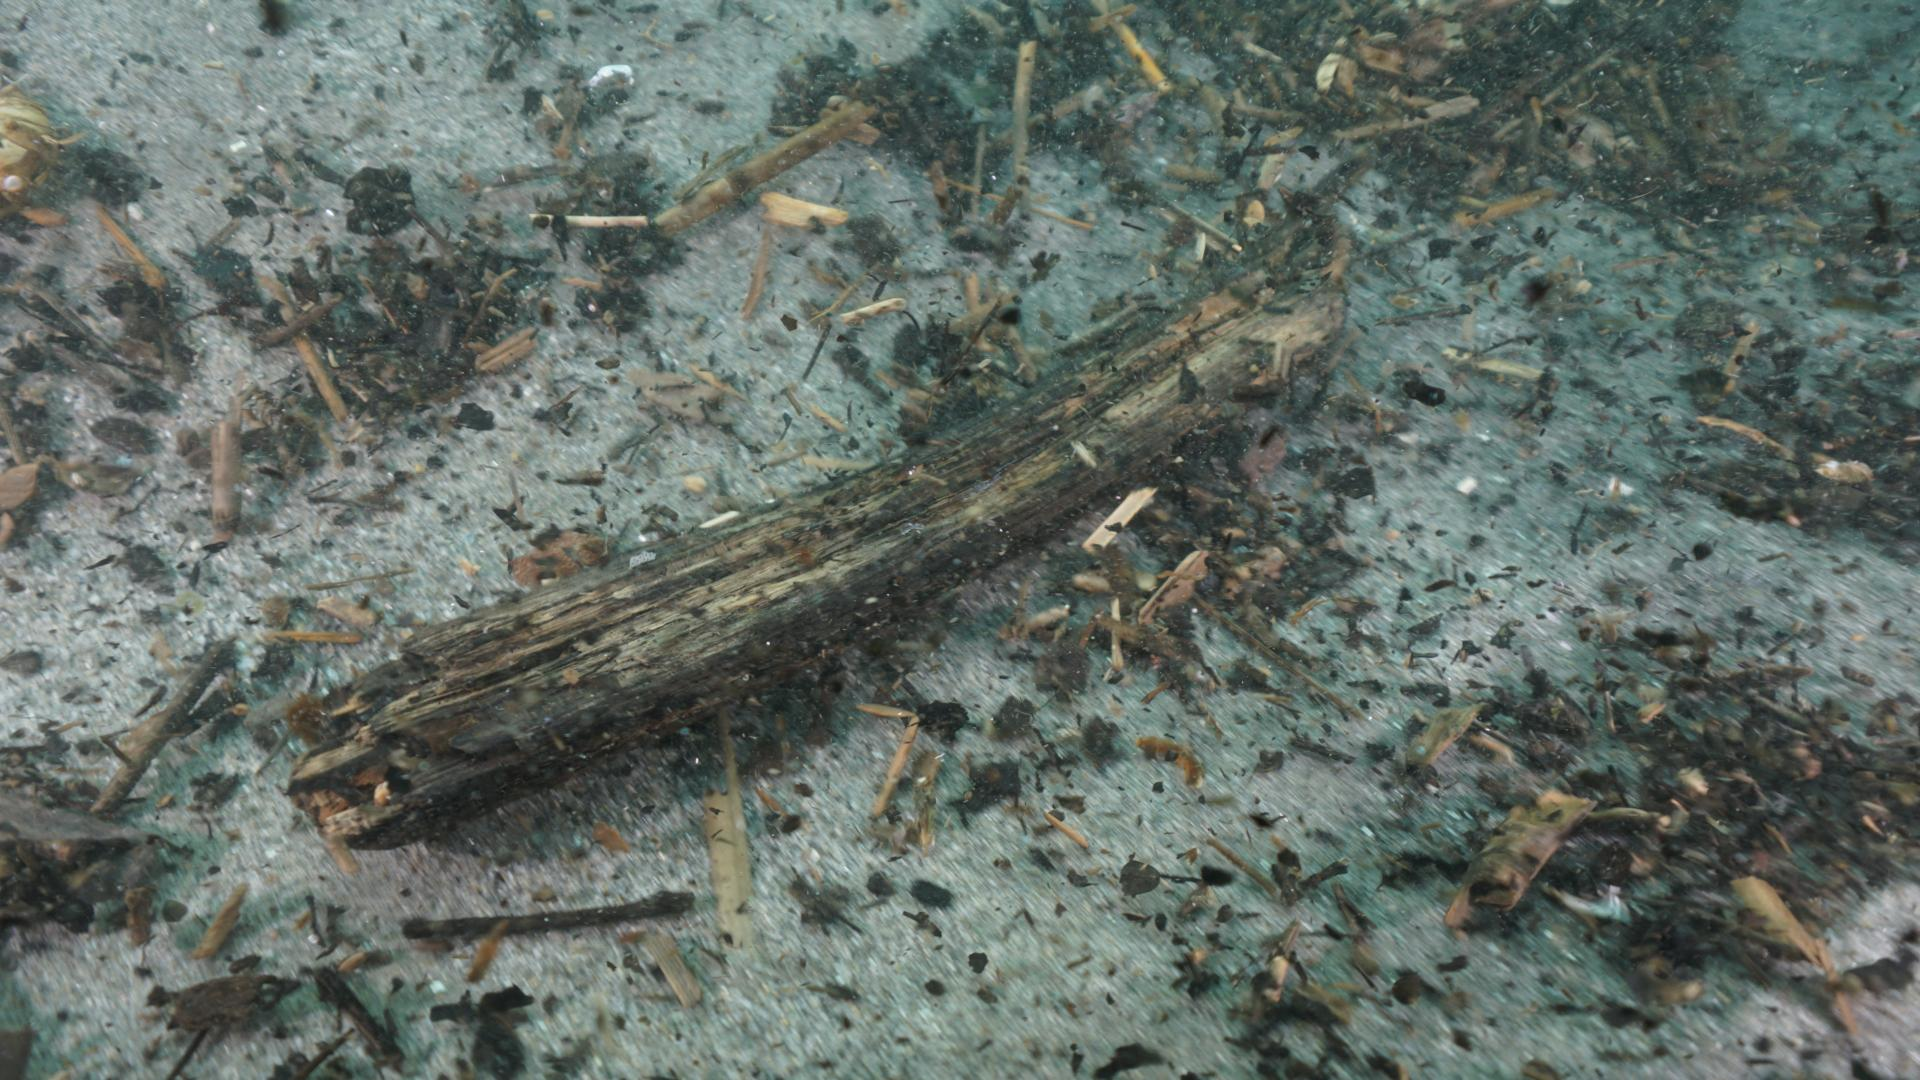wood: (284, 150, 1379, 844)
